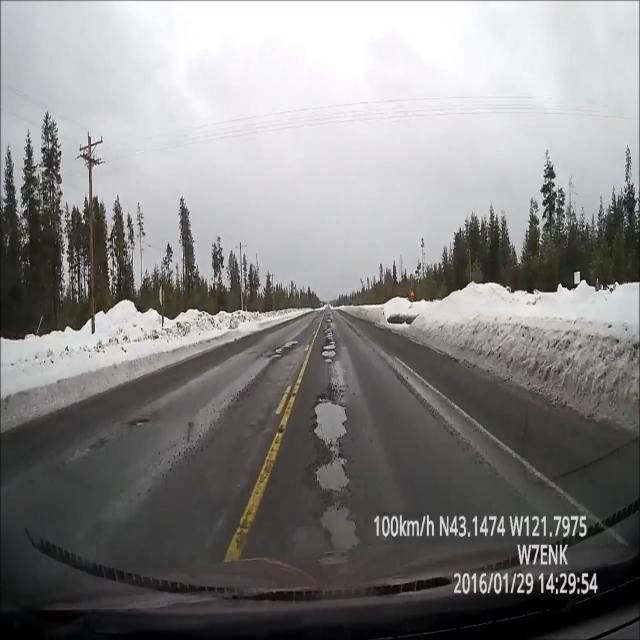Pothole: (308, 394, 360, 562), (320, 305, 340, 368)
